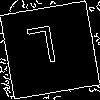L: (24, 25, 61, 75)
